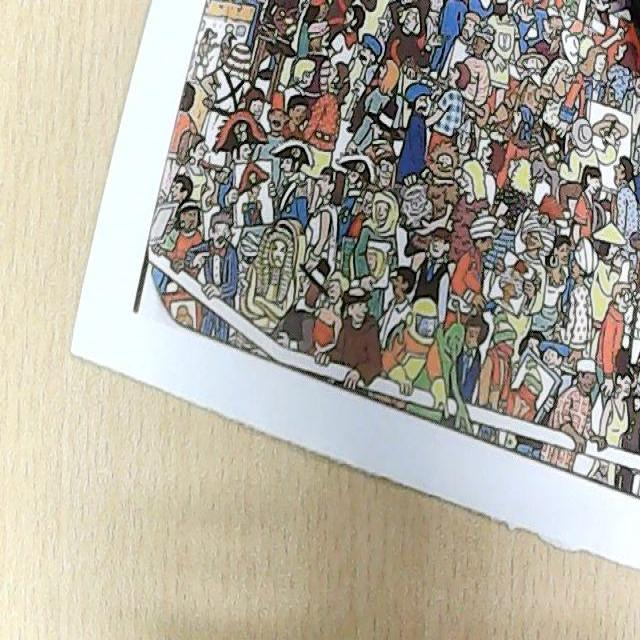waldo: (372, 140, 396, 192)
